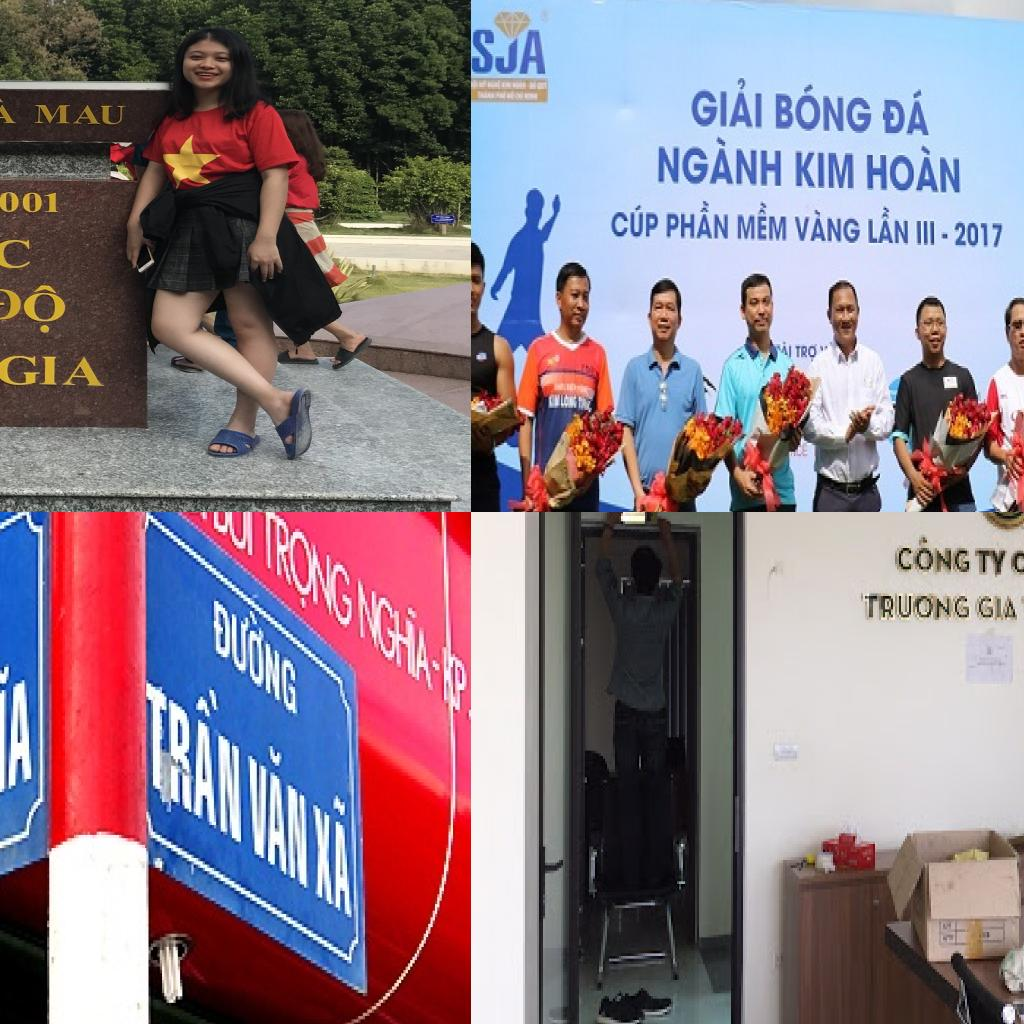text: (146, 648, 246, 852), (259, 512, 356, 650), (212, 578, 300, 723), (245, 726, 311, 898), (356, 565, 437, 700), (658, 135, 784, 190), (0, 653, 38, 831), (311, 779, 356, 927), (776, 80, 873, 136), (865, 142, 962, 194), (0, 351, 111, 390), (690, 74, 763, 131), (471, 27, 547, 78), (0, 275, 63, 334), (863, 590, 973, 622), (895, 532, 973, 575), (665, 199, 731, 245), (442, 640, 471, 742), (31, 99, 129, 128), (880, 85, 931, 137), (792, 208, 861, 245), (794, 151, 856, 190), (211, 512, 256, 565), (735, 199, 789, 243), (610, 201, 660, 243), (868, 204, 911, 248), (0, 219, 36, 271), (0, 189, 61, 214), (953, 221, 1006, 249), (975, 594, 1021, 626), (975, 548, 1009, 580), (915, 218, 937, 250), (794, 342, 820, 366), (1011, 531, 1024, 577), (0, 95, 17, 125), (561, 394, 579, 414), (548, 395, 562, 412)
